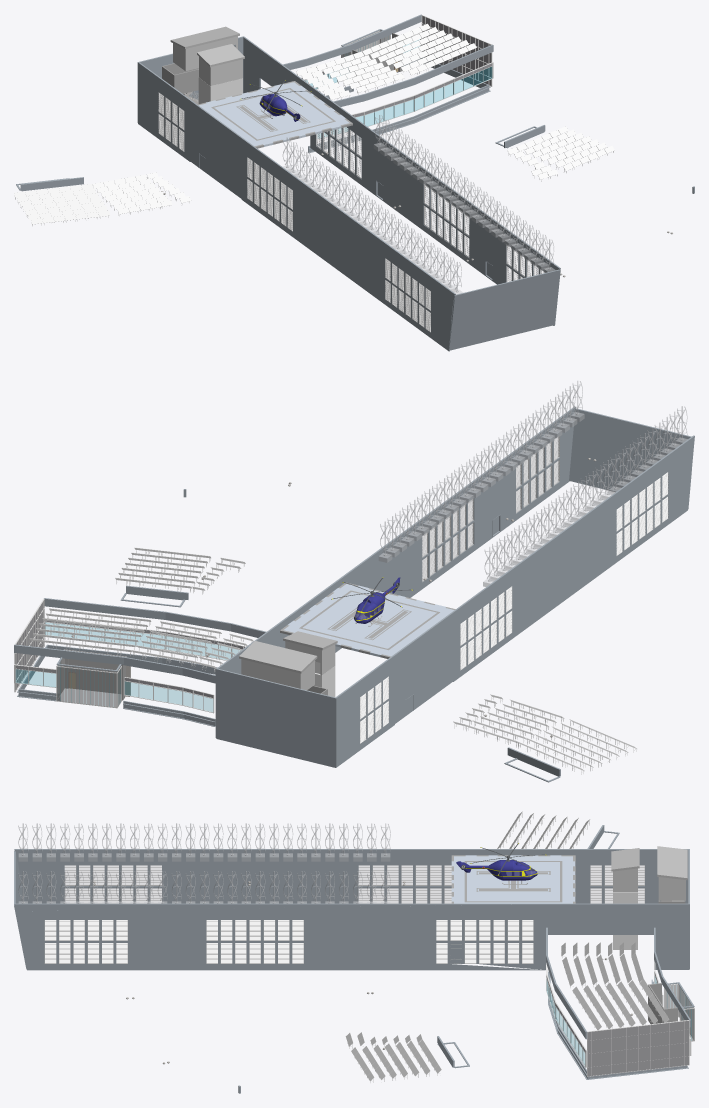
3 views of the same model, one above another, from view 1: azimuth 30°, elevation 25°; view 2: azimuth 150°, elevation 25°; view 3: azimuth 270°, elevation 25° (orthographic). The views are drawn at different scales.
Parts seen in each view (by area): view 1: 1IjDNnD1b6tenKMZR0qEbA, 1IjDNnD1b6tenKKZV0qEva, 1IjDNnD1b6tenKMZR0qFIk, 1IjDNnD1b6tenKKZV0qEvg, 1IjDNnD1b6tenKKZJ0qEva, 1IjDNnD1b6tenKKZJ0qEvg, 1IjDNnD1b6tenKKZN0qEvg, 1IjDNnD1b6tenKKZN0qEva, 1IjDNnD1b6tenKKZV0qEvb, 1IjDNnD1b6tenKKZV0qEvl, 1IjDNnD1b6tenKKZJ0qEvb, 1IjDNnD1b6tenKKZJ0qEvl (+9 smaller); view 2: 1IjDNnD1b6tenKKZV0qEva, 1IjDNnD1b6tenKMZR0qFIk, 1IjDNnD1b6tenKMZR0qEbA, 1IjDNnD1b6tenKKZV0qEvg, 1IjDNnD1b6tenKKZJ0qEva, 1IjDNnD1b6tenKKZV0qEvk, 1IjDNnD1b6tenKKZJ0qEvg, 1IjDNnD1b6tenKKZJ0qEvk, 1IjDNnD1b6tenKKZN0qEvg, 1IjDNnD1b6tenKKZN0qEva, 1IjDNnD1b6tenKKZV0qEvb, 1IjDNnD1b6tenKKZV0qEvl (+8 smaller); view 3: 1IjDNnD1b6tenKKZV0qEvg, 1IjDNnD1b6tenKKZJ0qEvg, 1IjDNnD1b6tenKKZJ0qEva, 1IjDNnD1b6tenKKZV0qEva, 1IjDNnD1b6tenKMZR0qFIk, 1IjDNnD1b6tenKKZN0qEvg, 1IjDNnD1b6tenKKZN0qEva, 1IjDNnD1b6tenKKZV0qEvh, 1IjDNnD1b6tenKMZR0qFIf, 1IjDNnD1b6tenKKZV0qEvf, 1IjDNnD1b6tenKKZJ0qEvl, 1IjDNnD1b6tenKKZJ0qEvh (+9 smaller).
Part boxes in pixels (x1,y1,x2,y2): 1IjDNnD1b6tenKMZR0qEbA: [449, 269, 560, 350]; 1IjDNnD1b6tenKKZV0qEva: [241, 167, 451, 351]; 1IjDNnD1b6tenKMZR0qFIk: [198, 81, 352, 148]; 1IjDNnD1b6tenKKZV0qEvg: [310, 131, 557, 325]; 1IjDNnD1b6tenKKZJ0qEva: [241, 145, 453, 320]; 1IjDNnD1b6tenKKZJ0qEvg: [334, 124, 553, 275]; 1IjDNnD1b6tenKKZN0qEvg: [310, 86, 560, 270]; 1IjDNnD1b6tenKKZN0qEva: [241, 138, 455, 299]; 1IjDNnD1b6tenKKZV0qEvb: [190, 129, 241, 198]; 1IjDNnD1b6tenKKZV0qEvl: [137, 91, 190, 161]; 1IjDNnD1b6tenKKZJ0qEvb: [190, 107, 241, 166]; 1IjDNnD1b6tenKKZJ0qEvl: [137, 69, 189, 128]; 1IjDNnD1b6tenKKZV0qEva: [453, 470, 691, 681]; 1IjDNnD1b6tenKMZR0qFIk: [280, 582, 455, 658]; 1IjDNnD1b6tenKMZR0qEbA: [569, 408, 694, 491]; 1IjDNnD1b6tenKKZV0qEvg: [335, 442, 572, 652]; 1IjDNnD1b6tenKKZJ0qEva: [453, 444, 693, 644]; 1IjDNnD1b6tenKKZV0qEvk: [215, 701, 336, 767]; 1IjDNnD1b6tenKKZJ0qEvg: [346, 415, 574, 588]; 1IjDNnD1b6tenKKZJ0qEvk: [215, 676, 336, 730]; 1IjDNnD1b6tenKKZN0qEvg: [293, 406, 575, 619]; 1IjDNnD1b6tenKKZN0qEva: [452, 435, 694, 619]; 1IjDNnD1b6tenKKZV0qEvb: [395, 645, 453, 723]; 1IjDNnD1b6tenKKZV0qEvl: [336, 688, 395, 767]; 1IjDNnD1b6tenKKZV0qEvg: [20, 935, 545, 970]; 1IjDNnD1b6tenKKZJ0qEvg: [15, 910, 545, 934]; 1IjDNnD1b6tenKKZJ0qEva: [17, 856, 451, 880]; 1IjDNnD1b6tenKKZV0qEva: [21, 880, 451, 910]; 1IjDNnD1b6tenKMZR0qFIk: [451, 855, 575, 903]; 1IjDNnD1b6tenKKZN0qEvg: [14, 903, 545, 911]; 1IjDNnD1b6tenKKZN0qEva: [14, 849, 468, 856]; 1IjDNnD1b6tenKKZV0qEvh: [546, 911, 655, 934]; 1IjDNnD1b6tenKMZR0qFIf: [456, 843, 546, 884]; 1IjDNnD1b6tenKKZV0qEvf: [654, 935, 689, 969]; 1IjDNnD1b6tenKKZJ0qEvl: [578, 856, 688, 880]; 1IjDNnD1b6tenKKZJ0qEvh: [546, 903, 655, 911].
Size of the model in its own units: 84.53 by 14.51 by 87.95.
